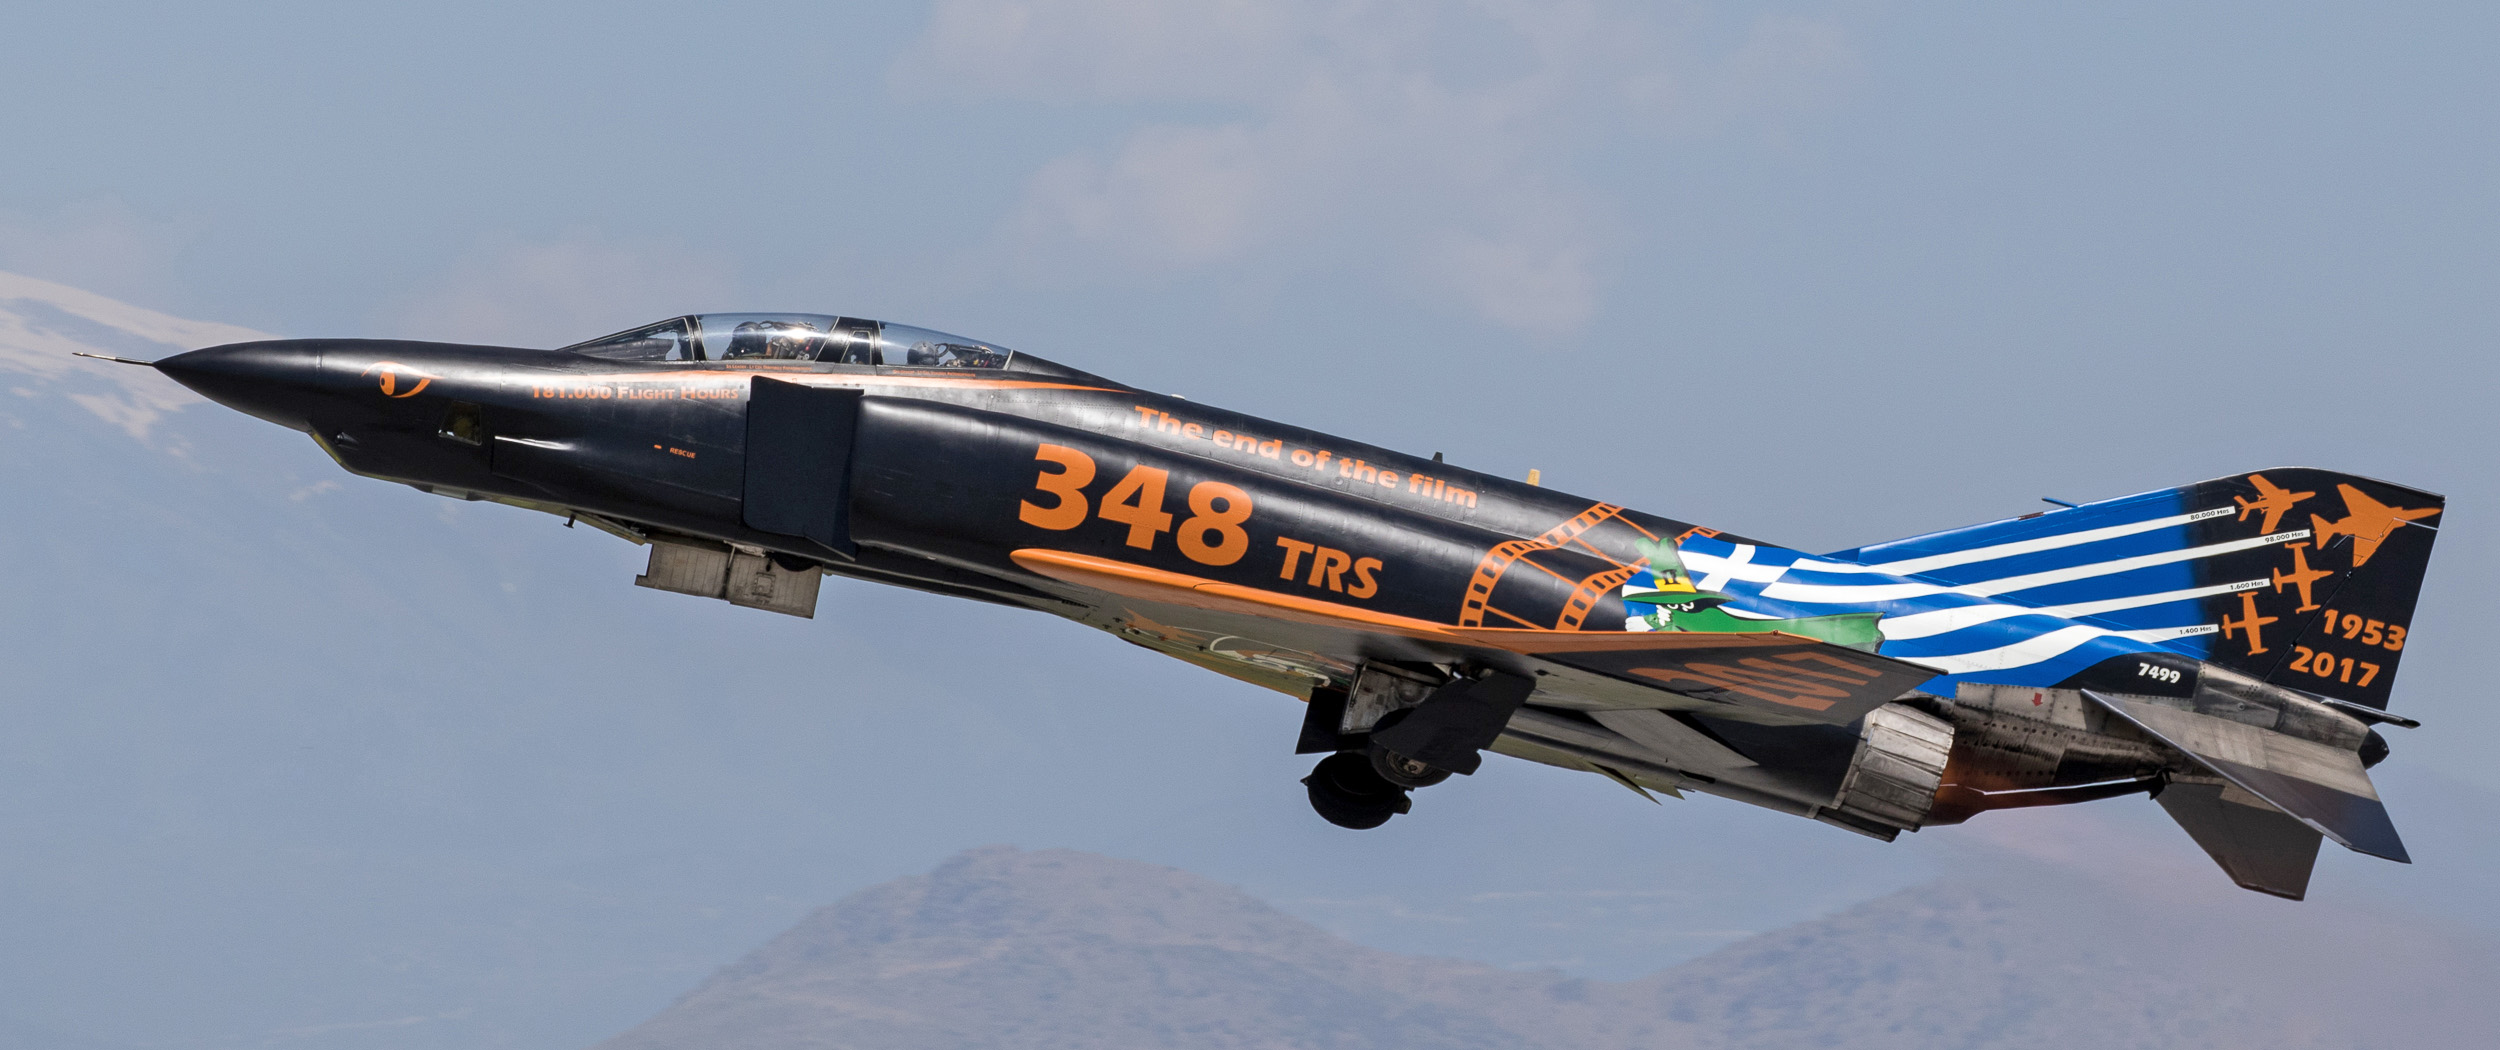F4: (70, 311, 2447, 902)
